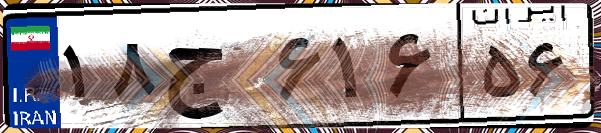1: (330, 28, 385, 110), (57, 26, 110, 100)
5: (475, 38, 525, 113)
6: (270, 28, 330, 110), (385, 28, 445, 110), (525, 38, 570, 115)
8: (110, 28, 158, 98)
ج: (158, 20, 270, 120)
